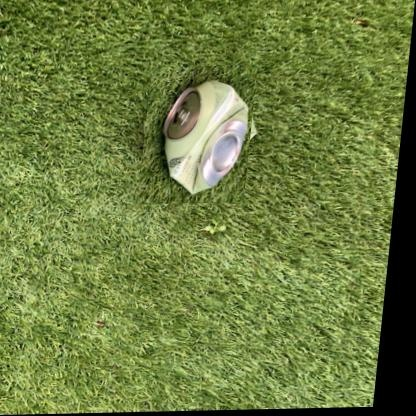trash: (163, 81, 247, 193)
